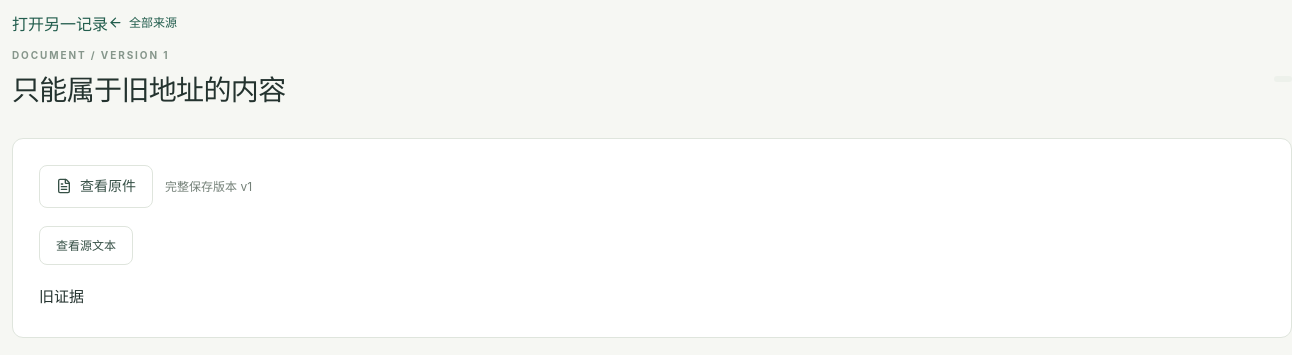
does not show stale source-version after navigation to a missing identity
Check: the heading "只能属于旧地址的内容" is shown, box top-left (12, 71), bottom-right (286, 110)
Click the link "打开另一记录": [60, 24] box top-left (12, 14), bottom-right (108, 34)
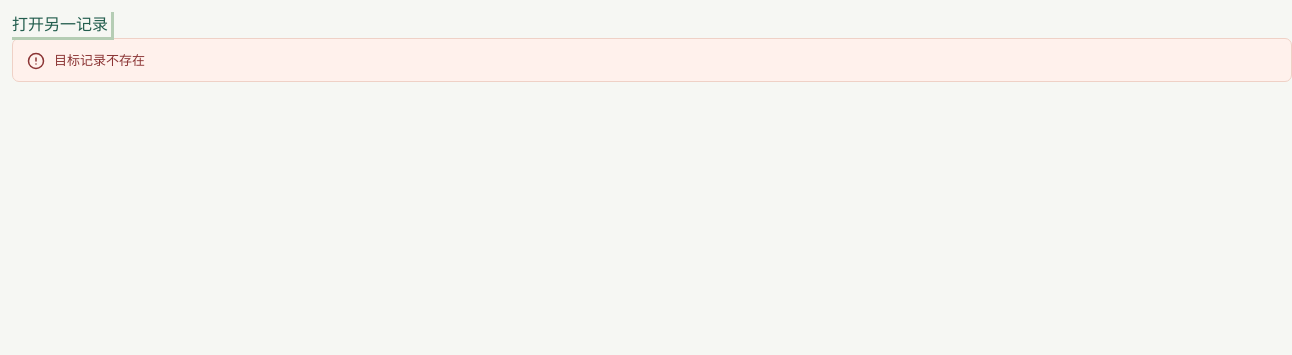
Check: the message reads "目标记录不存在", box top-left (54, 52), bottom-right (145, 68)
Check: the heading "只能属于旧地址的内容" is gone
